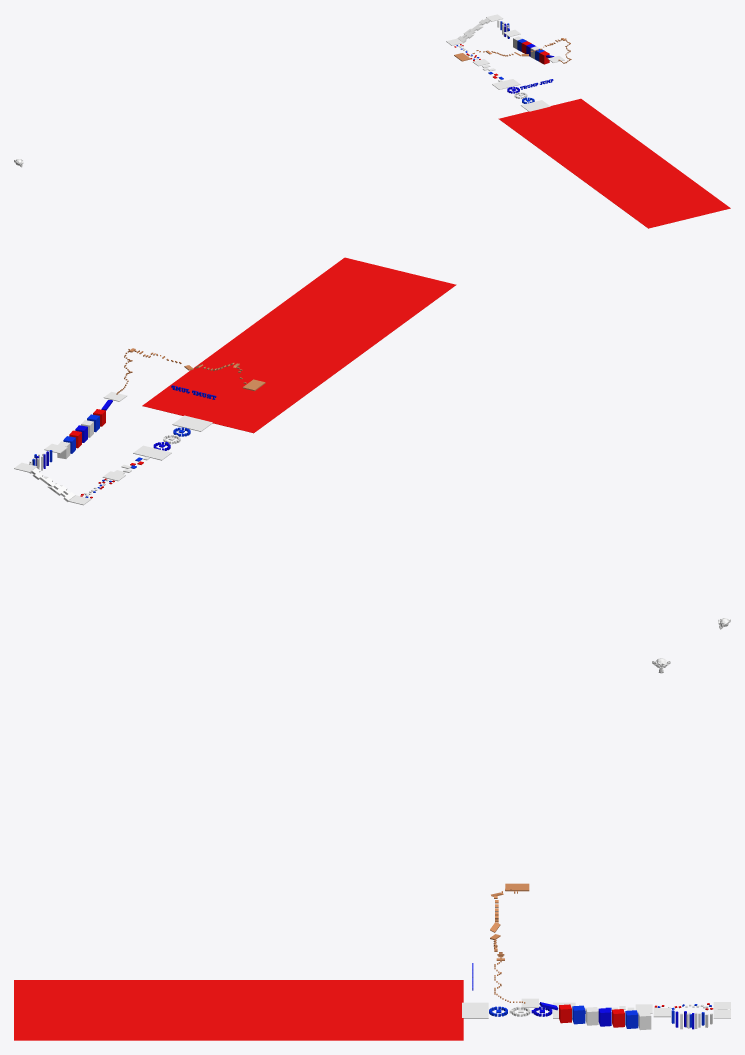
The picture shows the model from 3 angles, top to bottom: view 1: azimuth 30°, elevation 25°; view 2: azimuth 150°, elevation 25°; view 3: azimuth 270°, elevation 25°; orthographic projection. The views are drawn at different scales.
Parts seen in each view (by area): view 1: Box; view 2: Box; view 3: Box.
Part boxes in pixels (<box>): Box: <box>498,98,730,228</box>; Box: <box>142,257,456,433</box>; Box: <box>14,980,463,1040</box>.
Bounding box in the file's own units: 3538 × 402 × 2899.
